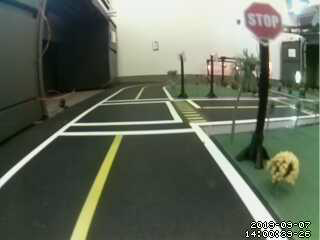Stop_Sign: (241, 4, 282, 41)
